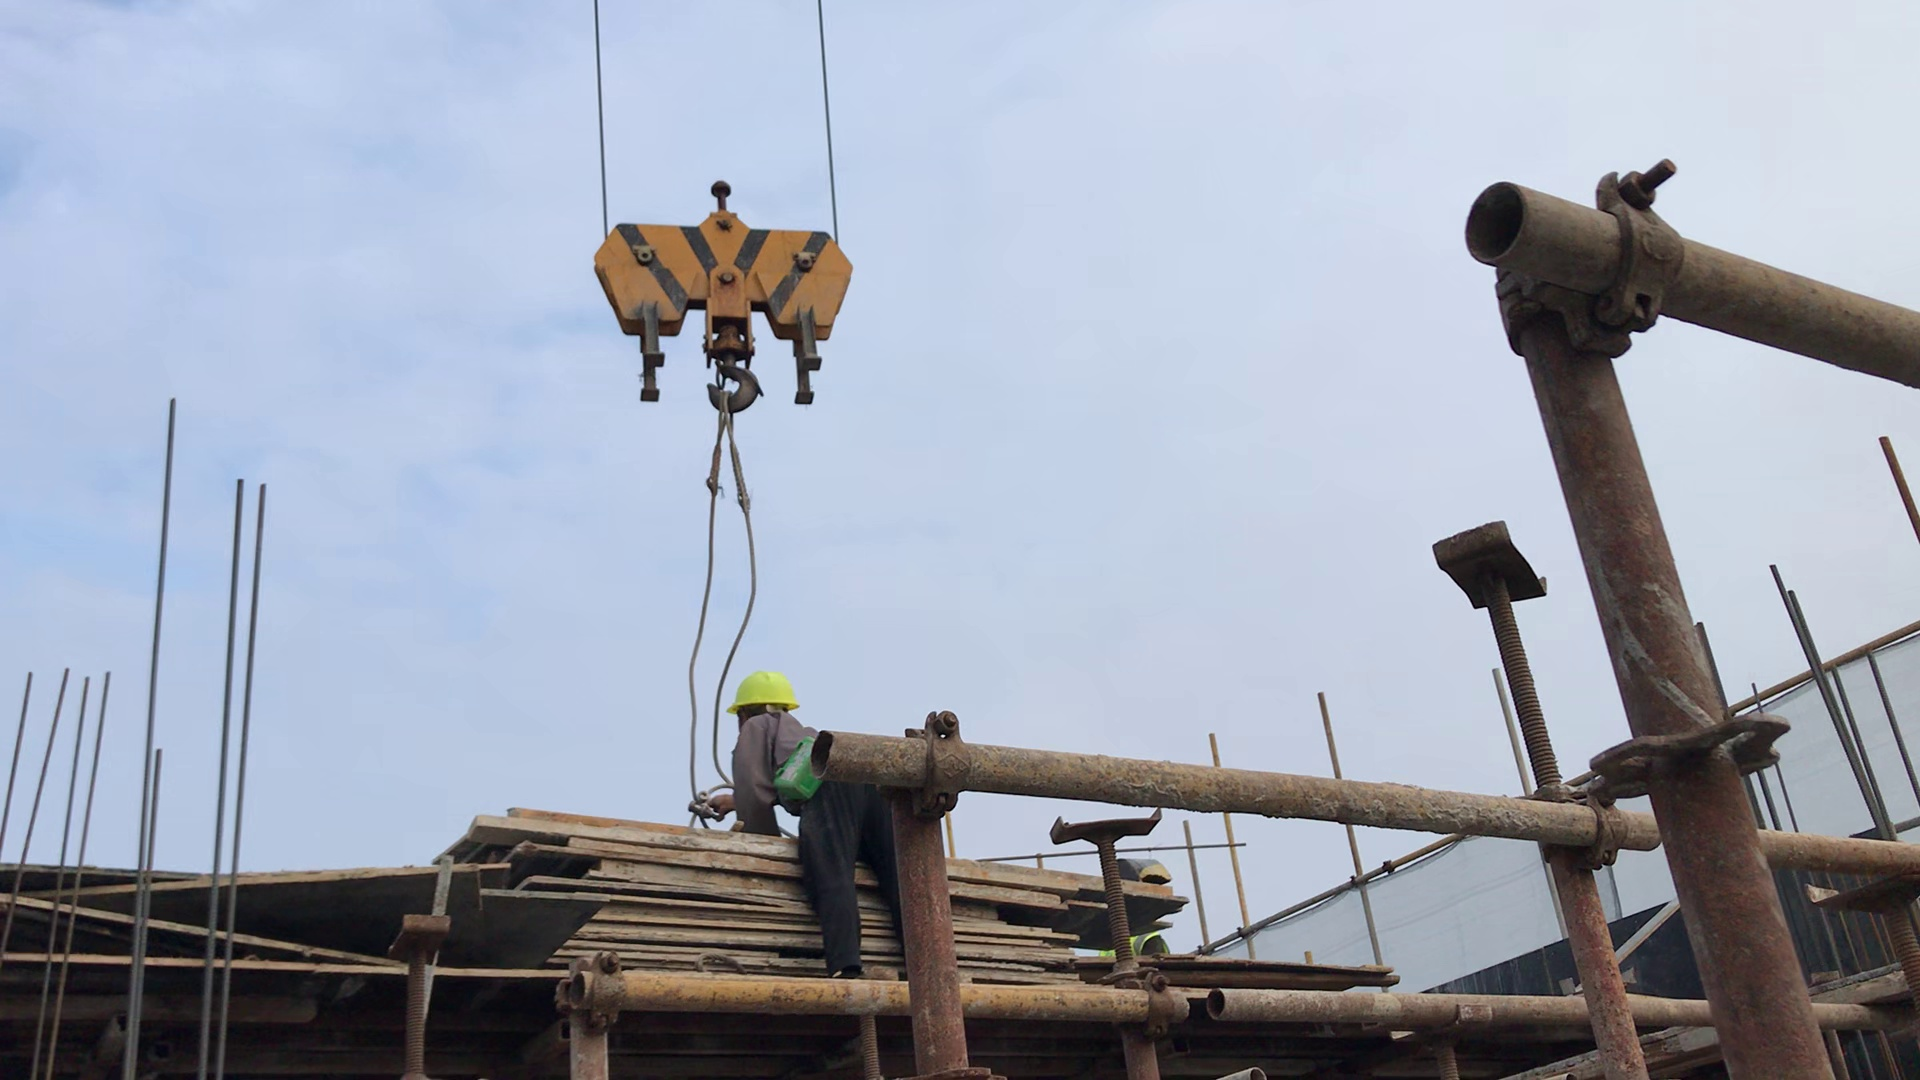board: (423, 804, 1195, 985)
helmet: (736, 674, 808, 717)
hook: (581, 139, 854, 422)
person: (686, 661, 943, 985)
